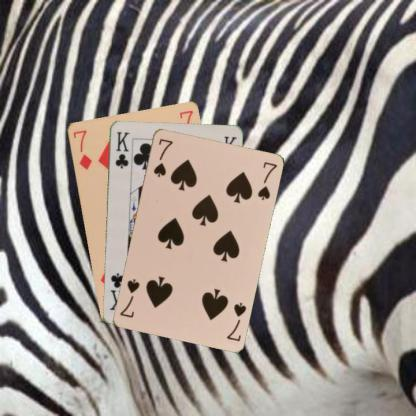7d: (70, 127, 93, 171)
7s: (224, 299, 247, 342), (151, 136, 174, 178)
Kc: (113, 129, 130, 170)
